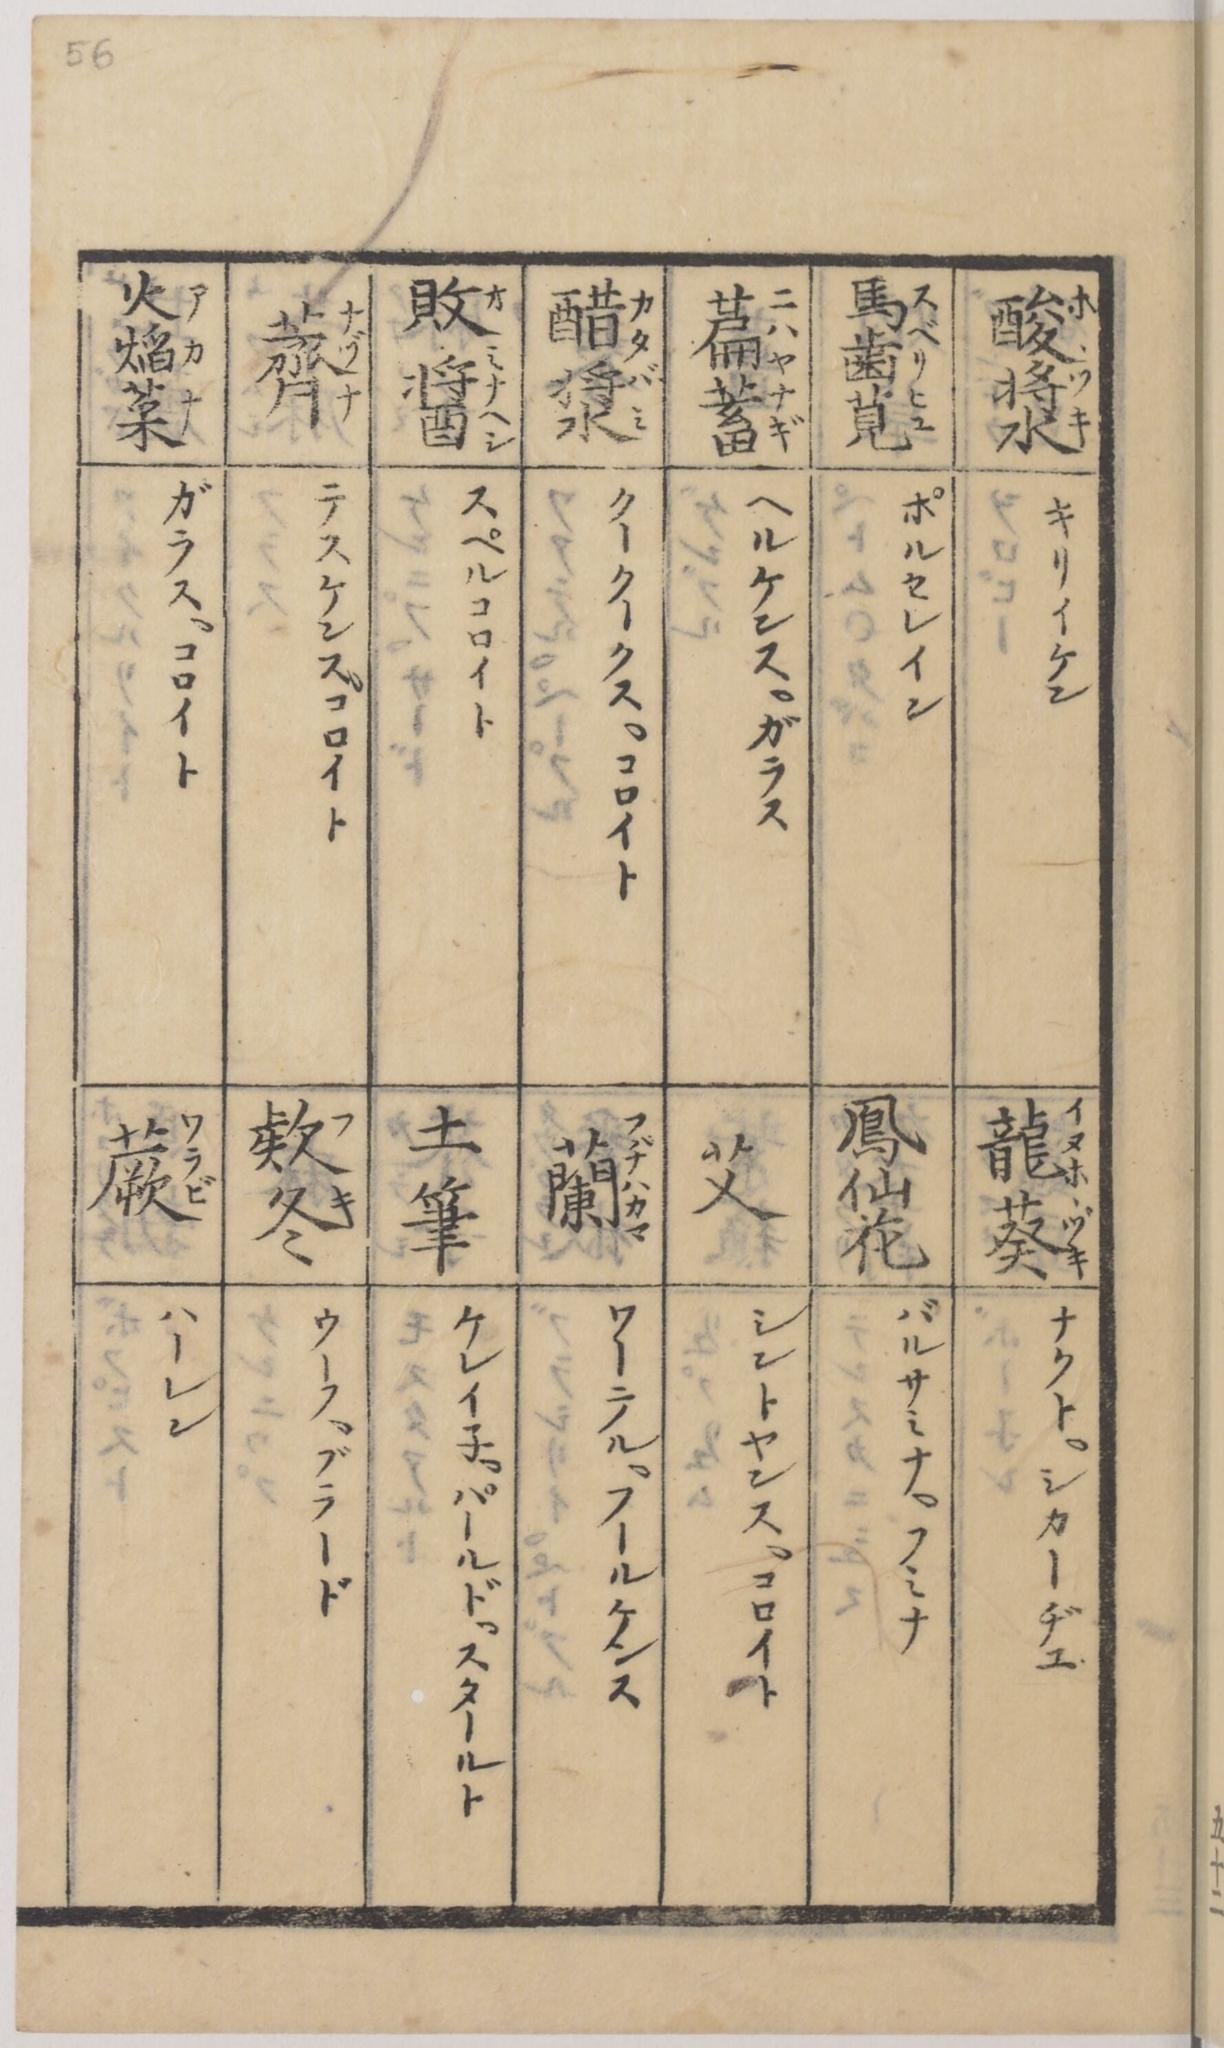MainZone-Character: (258, 296, 373, 427), (545, 1111, 657, 1241), (396, 342, 522, 457), (95, 1110, 216, 1224), (544, 360, 670, 452), (978, 1194, 1100, 1286), (695, 275, 806, 369), (982, 1101, 1096, 1190), (254, 1183, 364, 1267), (541, 281, 657, 358), (249, 1098, 360, 1177), (989, 280, 1093, 363), (398, 272, 519, 339), (108, 379, 208, 457), (835, 385, 943, 454), (831, 319, 946, 380), (986, 409, 1102, 460), (710, 415, 815, 466), (109, 328, 213, 379), (115, 268, 213, 322), (839, 271, 941, 322), (994, 364, 1099, 412), (699, 371, 804, 414)
MainZone-Ruby: (170, 1113, 217, 1209), (761, 275, 806, 370), (335, 296, 369, 422), (481, 342, 517, 454), (622, 1114, 651, 1245), (627, 360, 670, 440), (1058, 1196, 1091, 1279), (1065, 1098, 1093, 1192), (627, 281, 657, 357), (906, 319, 941, 376), (769, 414, 812, 460), (328, 1177, 361, 1231), (905, 387, 940, 434), (478, 277, 511, 319), (184, 277, 213, 325), (1071, 280, 1099, 329), (178, 383, 200, 446), (329, 1107, 361, 1142), (1071, 367, 1099, 403), (182, 331, 208, 369), (909, 281, 940, 313), (1070, 409, 1094, 449), (769, 379, 797, 412)
